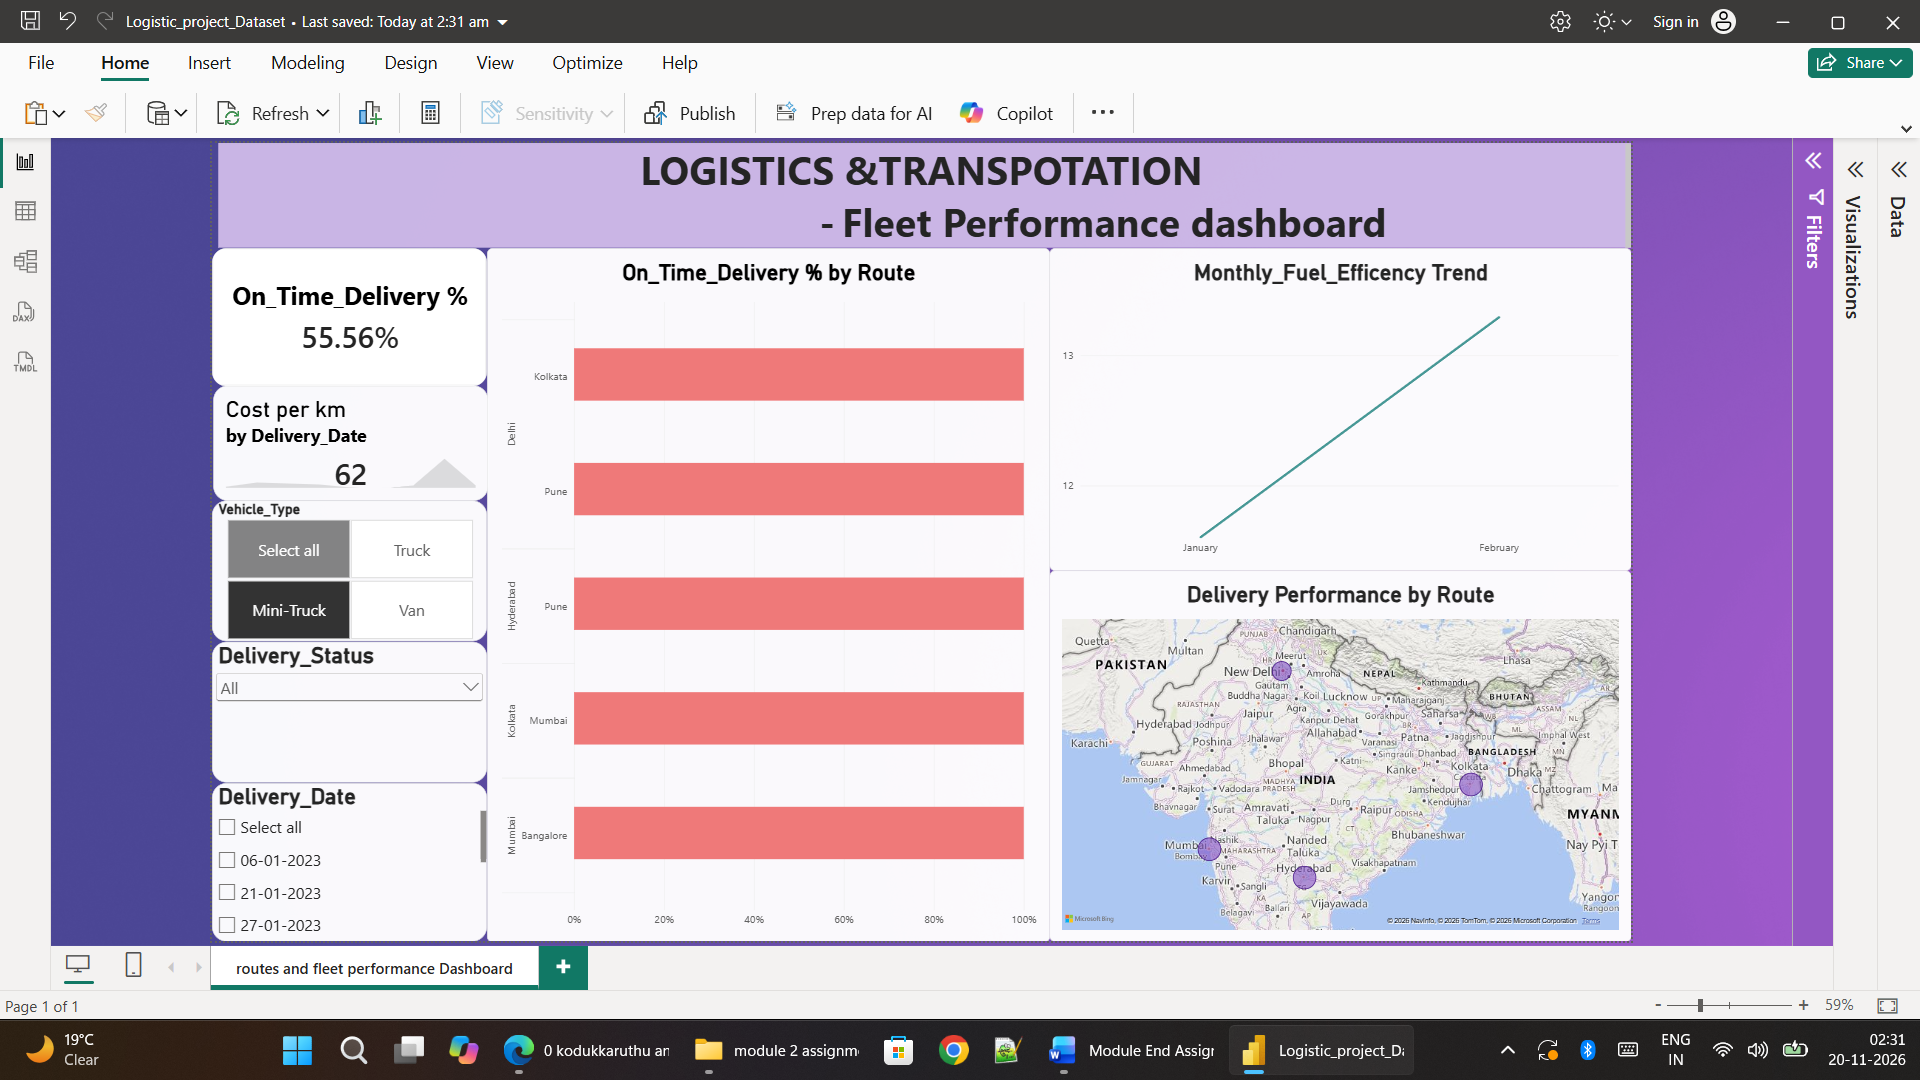

What the dashboard file says about the page in this screenshot:
{"tool":"powerbi","page":{"name":"routes and fleet performance Dashboard","canvas":[1920,1080],"ordinal":0},"visuals":[{"type":"textbox","box":[9.2,0,1911.3,141.2],"z":0},{"type":"kpi","fields":{"Indicator":["Trip_Table_Duplicate.Cost per km"],"TrendLine":["Trip_Table_Duplicate.Delivery_Date"]},"box":[1.8,328.3,372.4,155.9],"z":1000},{"type":"cardVisual","fields":{"Data":["Trip_Table_Duplicate.On_Time_Delivery %"]},"box":[0,141.2,372.4,187.1],"z":2000},{"type":"clusteredBarChart","title":"On_Time_Delivery % by Route                             ","fields":{"Category":["Trip_Table_Duplicate.Origin","Trip_Table_Duplicate.Destination"],"Y":["Trip_Table_Duplicate.On_Time_Delivery %"]},"box":[372.4,141.2,761.2,939.1],"z":3000},{"type":"lineChart","title":"Monthly_Fuel_Efficency Trend","fields":{"Category":["Trip_Table_Duplicate.Delivery_Date.Variation.Date Hierarchy.Month"],"Y":["Trip_Table_Duplicate.Fuel_Efficency"]},"box":[1133.6,141.2,786.9,436.6],"z":4000},{"type":"map","title":"Delivery Performance by Route","fields":{"Category":["Trip_Table_Duplicate.Origin"],"Size":["Trip_Table_Duplicate.On_Time_Delivery %"]},"box":[1133.6,577.8,786.9,502.6],"z":5000},{"type":"slicer","fields":{"Values":["Trip_Table_Duplicate.Vehicle_Type"]},"box":[0,484.2,372.4,190.8],"z":6000},{"type":"slicer","fields":{"Values":["Trip_Table_Duplicate.Delivery_Status"]},"box":[0,675,372.4,190.8],"z":7000},{"type":"slicer","fields":{"Values":["Trip_Table_Duplicate.Delivery_Date"]},"box":[0,865.8,372.4,214.6],"z":8000}]}

Visuals, with their boxes on the page's 1920x1080 design canvas (x1, y1, x2, y2). These are canvas units, not pixel positions in the 1920x1080 screenshot, which may show the page scaled, cropped or inside an application window:
textbox: {"x1": 9, "y1": 0, "x2": 1920, "y2": 141}
kpi - Trip_Table_Duplicate.Cost per km x Trip_Table_Duplicate.Delivery_Date: {"x1": 2, "y1": 328, "x2": 374, "y2": 484}
cardVisual - Trip_Table_Duplicate.On_Time_Delivery %: {"x1": 0, "y1": 141, "x2": 372, "y2": 328}
"On_Time_Delivery % by Route                             " clusteredBarChart: {"x1": 372, "y1": 141, "x2": 1134, "y2": 1080}
"Monthly_Fuel_Efficency Trend" lineChart: {"x1": 1134, "y1": 141, "x2": 1920, "y2": 578}
"Delivery Performance by Route" map: {"x1": 1134, "y1": 578, "x2": 1920, "y2": 1080}
slicer - Trip_Table_Duplicate.Vehicle_Type: {"x1": 0, "y1": 484, "x2": 372, "y2": 675}
slicer - Trip_Table_Duplicate.Delivery_Status: {"x1": 0, "y1": 675, "x2": 372, "y2": 866}
slicer - Trip_Table_Duplicate.Delivery_Date: {"x1": 0, "y1": 866, "x2": 372, "y2": 1080}
